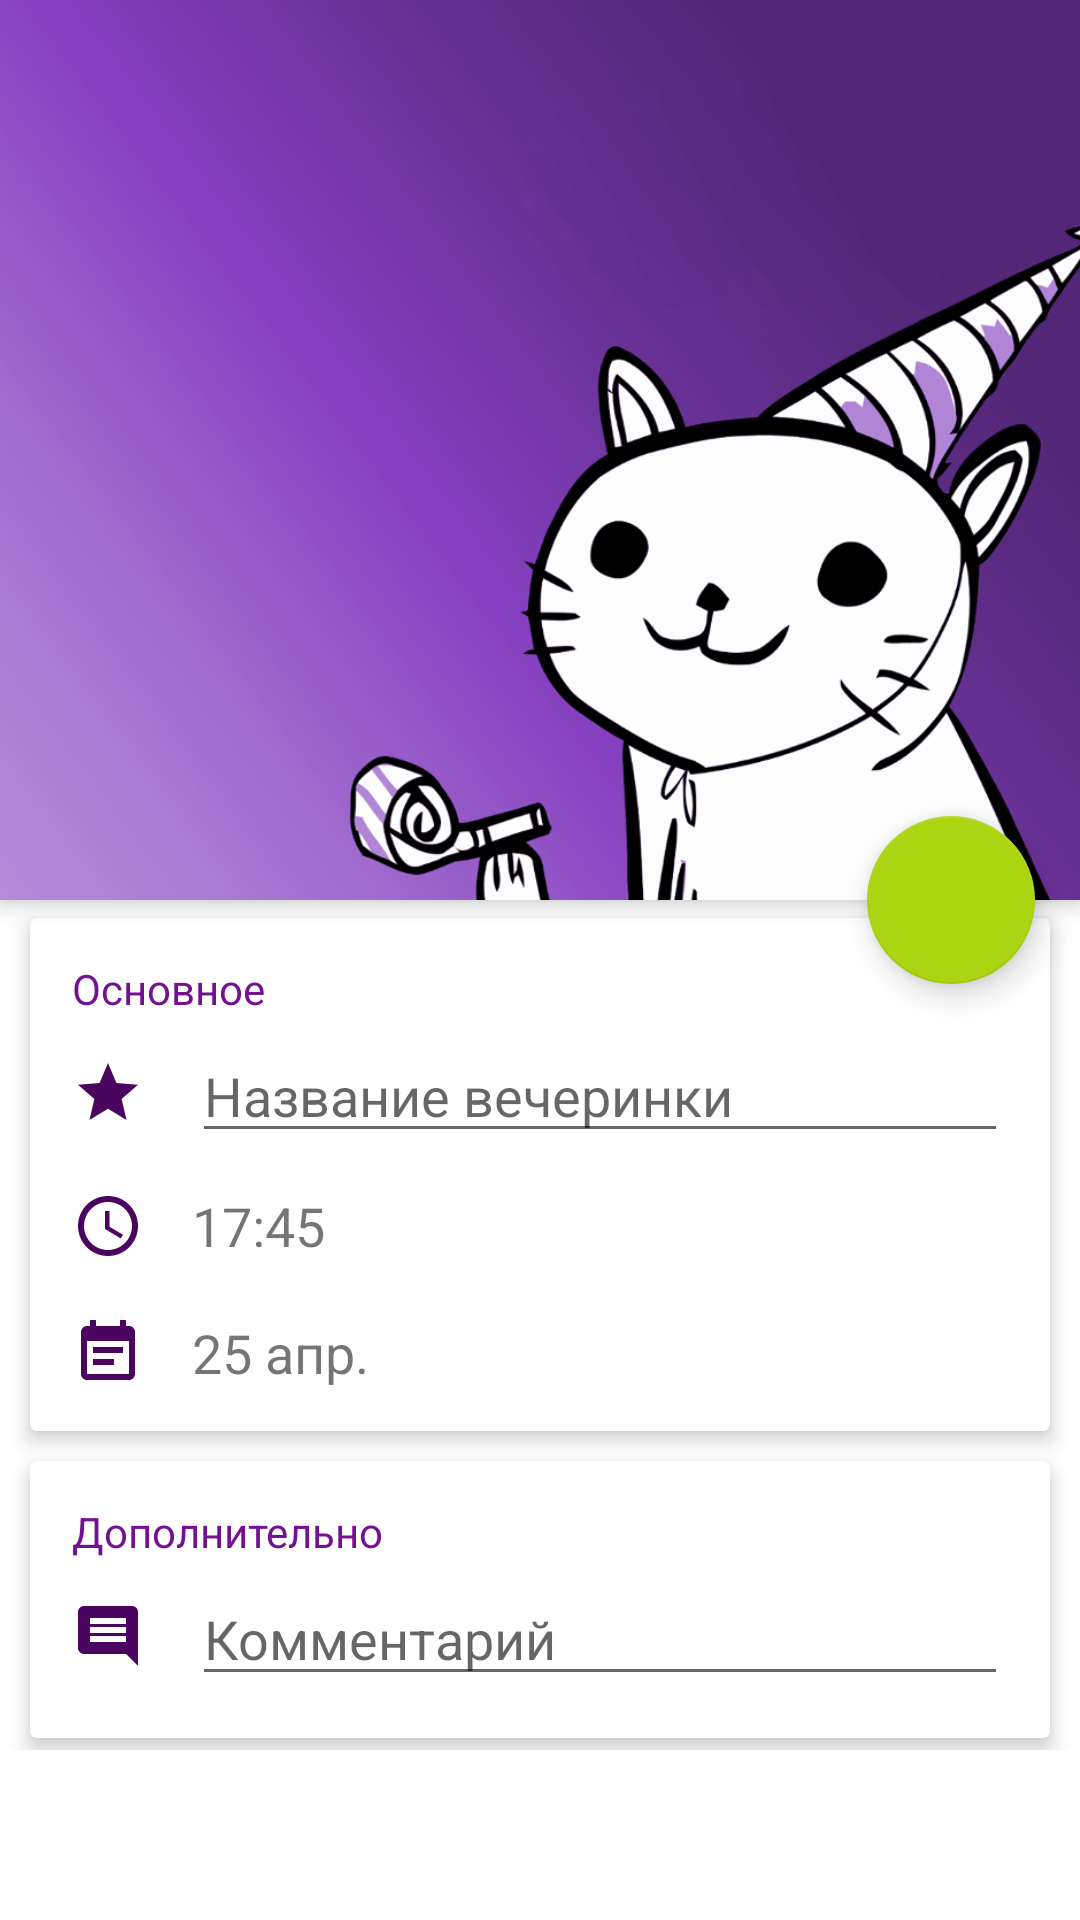

Named icons in this screenshot (1080x1920) and their bounding boxes, [x1=x1, y1=y1, x2=x2, y2=y2]:
calendar: [x1=81, y1=1320, x2=135, y2=1380]
comment: [x1=78, y1=1606, x2=138, y2=1666]
star: [x1=78, y1=1063, x2=138, y2=1120]
time: [x1=78, y1=1196, x2=138, y2=1256]
